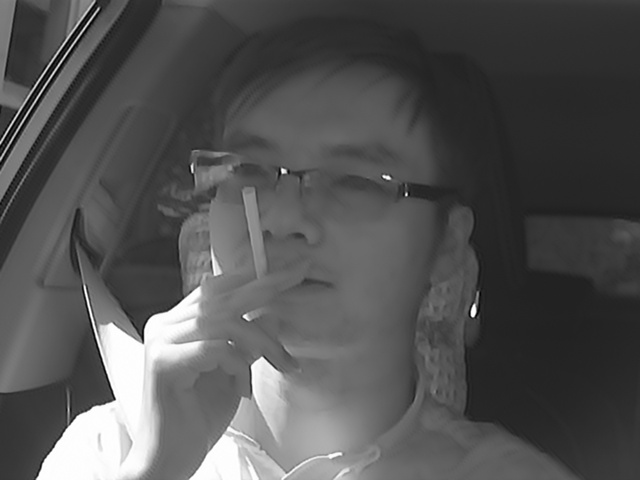hand: (138, 261, 305, 451)
